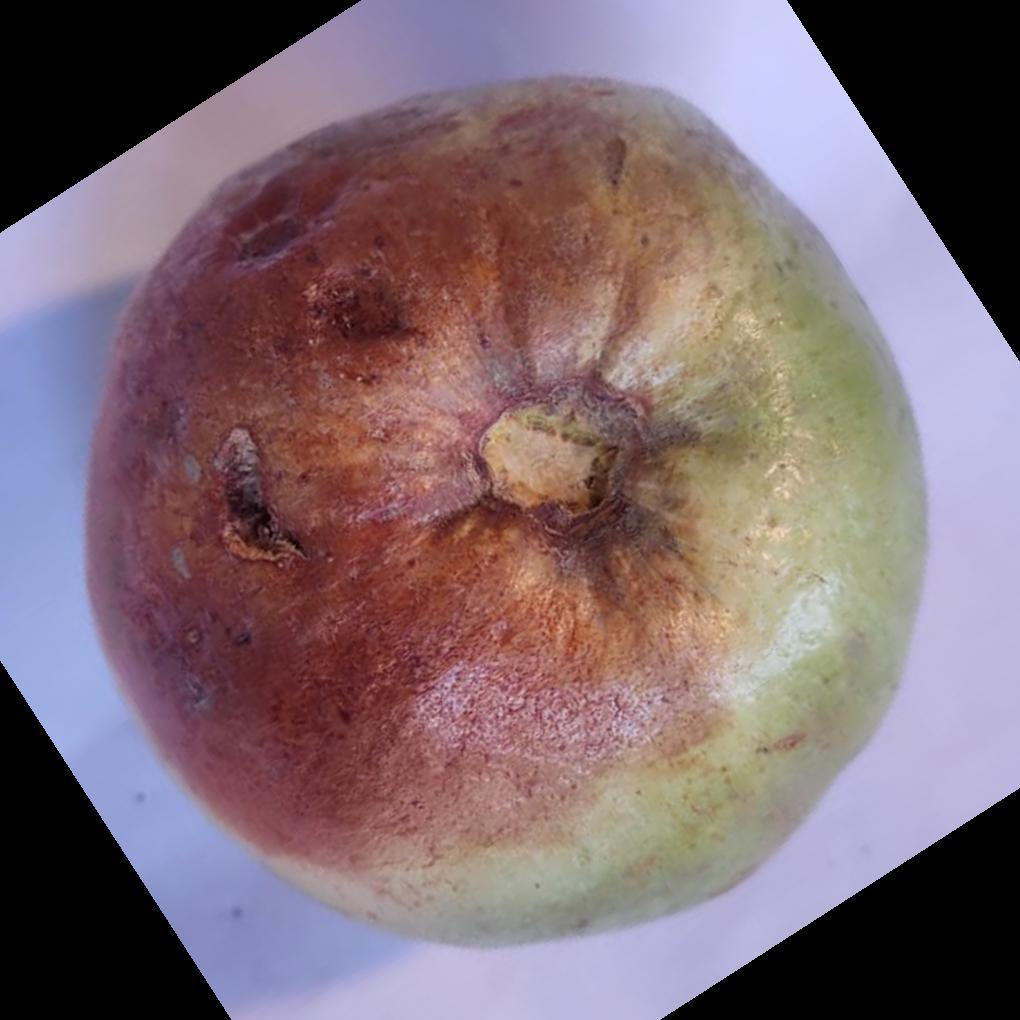FreshOrange: (81, 77, 930, 953)
